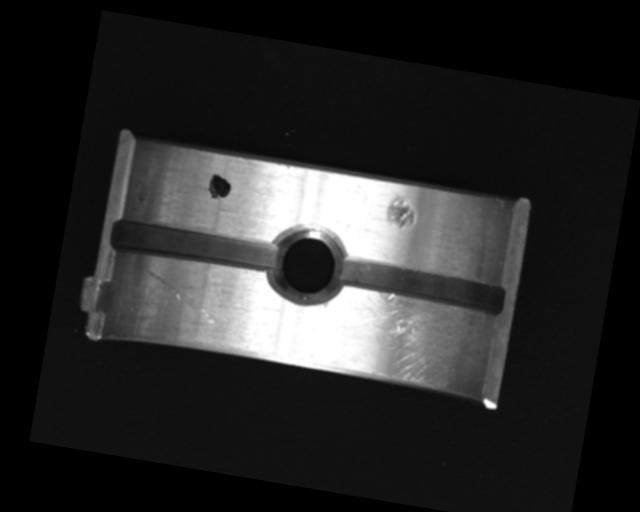blot: (206, 172, 234, 202)
bruise: (384, 191, 418, 231)
gap: (332, 255, 508, 318), (108, 215, 278, 274)
hole: (264, 218, 350, 311)
nick: (138, 268, 223, 326)
scratch: (322, 283, 488, 396)
